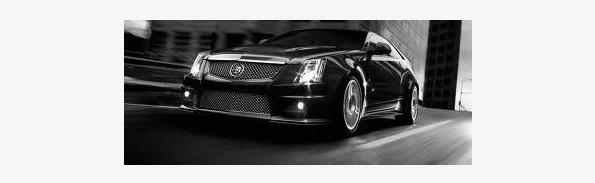car: (178, 28, 422, 139)
